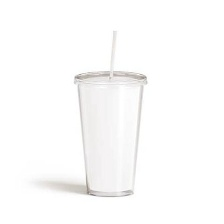drinking_straw: (105, 25, 123, 81)
glass: (65, 61, 150, 200)
